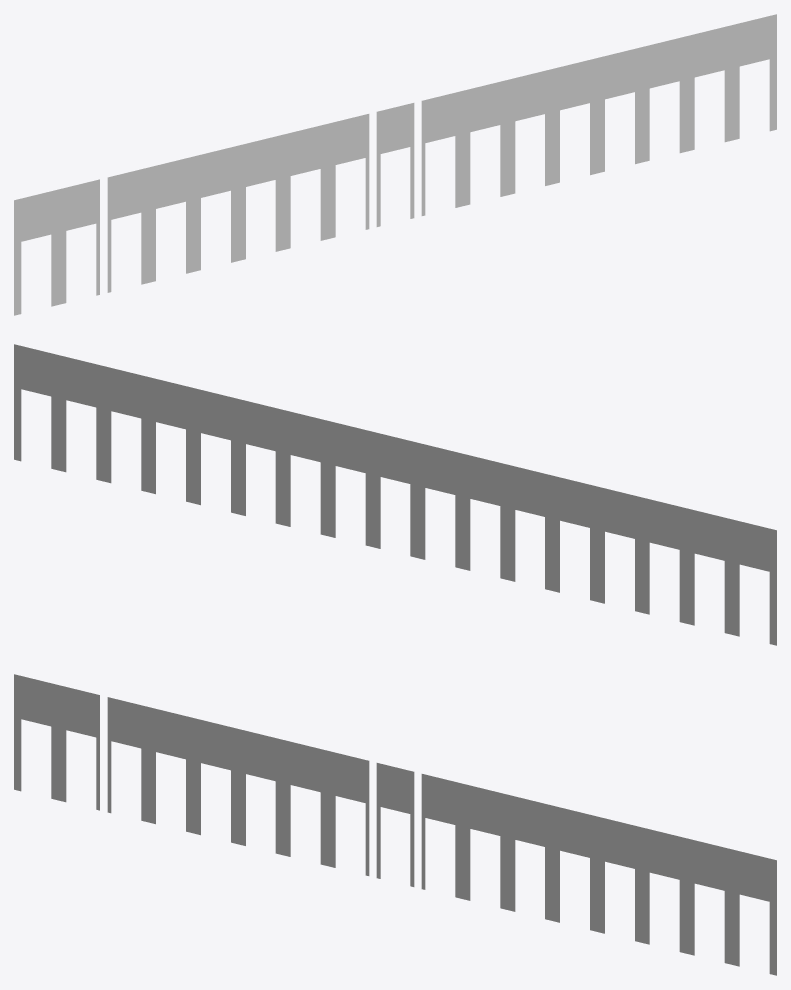
Rendered from PowerupIngame.glb.
3 views of the same model, one above another, from view 1: azimuth 30°, elevation 25°; view 2: azimuth 150°, elevation 25°; view 3: azimuth 330°, elevation 25° (orthographic).
Parts seen in each view (by area): view 1: transparent01, white01; view 2: transparent01, white01; view 3: transparent01, white01.
Part boxes in pixels (bbox=[...]): transparent01: bbox=[17, 15, 773, 314]; white01: bbox=[14, 14, 776, 315]; transparent01: bbox=[17, 345, 773, 644]; white01: bbox=[14, 344, 776, 645]; transparent01: bbox=[17, 675, 773, 974]; white01: bbox=[14, 674, 776, 975].
Bounding box in the file's own units: 102 × 14.76 × 4.21e-06.
Materials: 1 (1 with a texture image).
